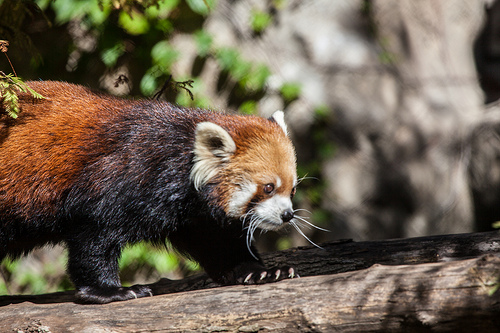red_panda: (1, 73, 317, 298)
